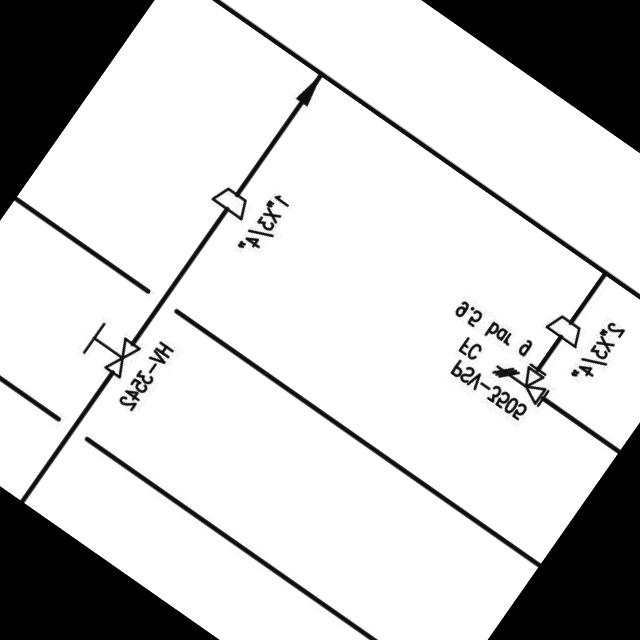HVWT: (72, 316, 146, 388)
RPV: (480, 339, 560, 414)
SP: (204, 178, 256, 226), (538, 306, 589, 352)
